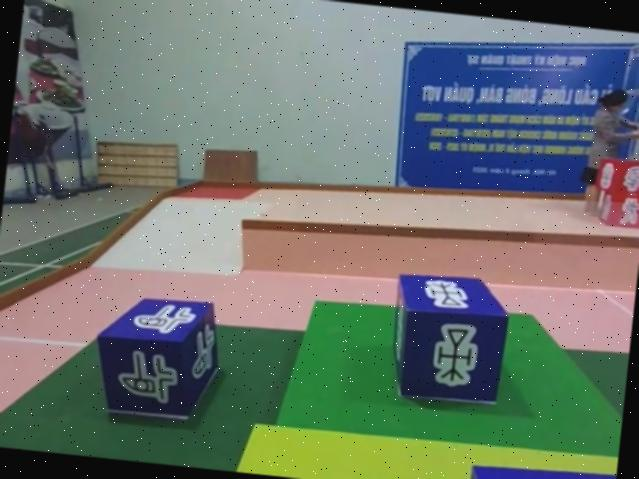R2 Real Blue: (86, 293, 221, 427), (87, 293, 223, 425), (382, 270, 510, 408)
